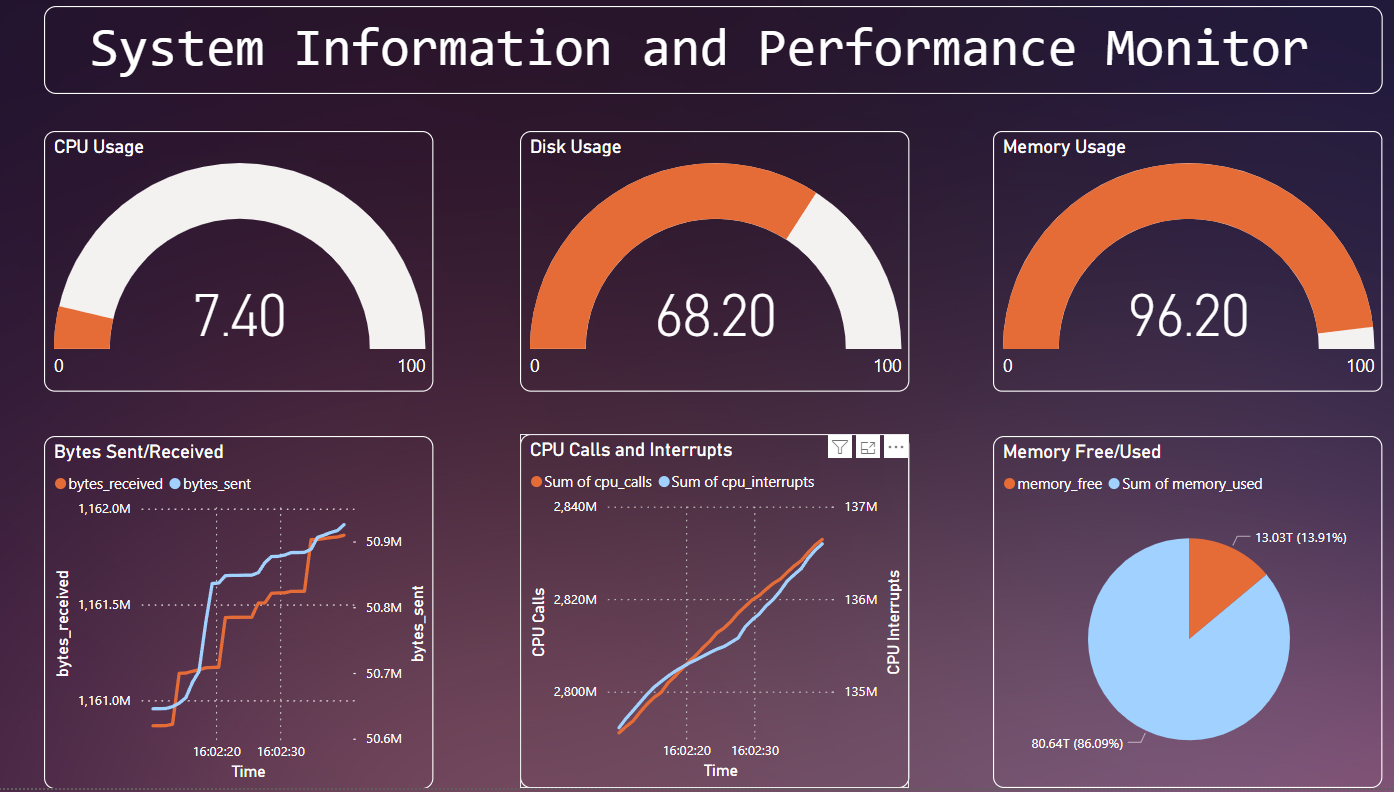

Layout of this report page (visuals, bound fields, positions):
{"tool":"powerbi","page":{"name":"Page 1","canvas":[1280,720],"ordinal":0},"visuals":[{"type":"textbox","box":[41.6,9.4,1216.5,80.1],"z":0},{"type":"gauge","title":"CPU Usage","fields":{"Y":["Performance.cpu_usage_latest"],"MinValue":["Performance.min_value"],"MaxValue":["Performance.max_value"]},"box":[41.6,122.8,353.8,237.3],"z":1000},{"type":"gauge","title":"Disk Usage","fields":{"Y":["Performance.disk_usage_latest"],"MinValue":["Performance.min_value"],"MaxValue":["Performance.max_value"]},"box":[474.5,122.8,353.8,237.3],"z":2000},{"type":"gauge","title":"Memory Usage","fields":{"Y":["Performance.memory_usage_latest"],"MinValue":["Performance.min_value"],"MaxValue":["Performance.max_value"]},"box":[904.3,122.8,353.8,237.3],"z":3000},{"type":"lineChart","title":"Bytes Sent/Received","fields":{"Y":["Sum(Performance.bytes_received)"],"Y2":["Sum(Performance.bytes_sent)"],"Category":["Performance.Time"]},"box":[41.6,399.6,353.8,320.5],"z":4000},{"type":"lineChart","title":"CPU Calls and Interrupts","fields":{"Category":["Performance.Time"],"Y2":["Sum(Performance.cpu_interrupts)"],"Y":["Sum(Performance.cpu_calls)"]},"box":[474.5,398.6,353.8,321.6],"z":5000},{"type":"pieChart","title":"Memory Free/Used","fields":{"Y":["Sum(Performance.memory_free)","Sum(Performance.memory_used)"]},"box":[904.4,400,354.4,320],"z":6000}]}

Visuals, with their boxes in screenshot pixels (x1, y1, x2, y2), scaled from the page's 1280x720 canvas onto the 1394x792 screenshot:
textbox: x1=45, y1=10, x2=1370, y2=98
"CPU Usage" gauge: x1=45, y1=135, x2=431, y2=396
"Disk Usage" gauge: x1=517, y1=135, x2=902, y2=396
"Memory Usage" gauge: x1=985, y1=135, x2=1370, y2=396
"Bytes Sent/Received" lineChart: x1=45, y1=440, x2=431, y2=791
"CPU Calls and Interrupts" lineChart: x1=517, y1=438, x2=902, y2=791
"Memory Free/Used" pieChart: x1=985, y1=440, x2=1371, y2=791
